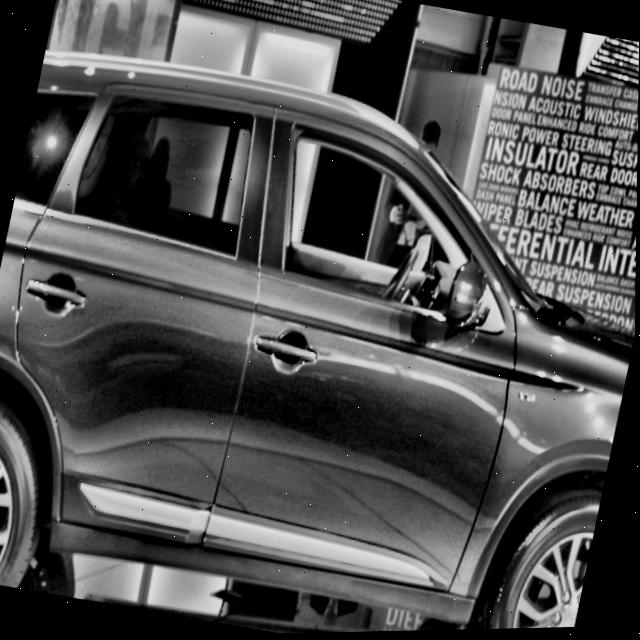light_vehicle: (0, 30, 640, 640)
